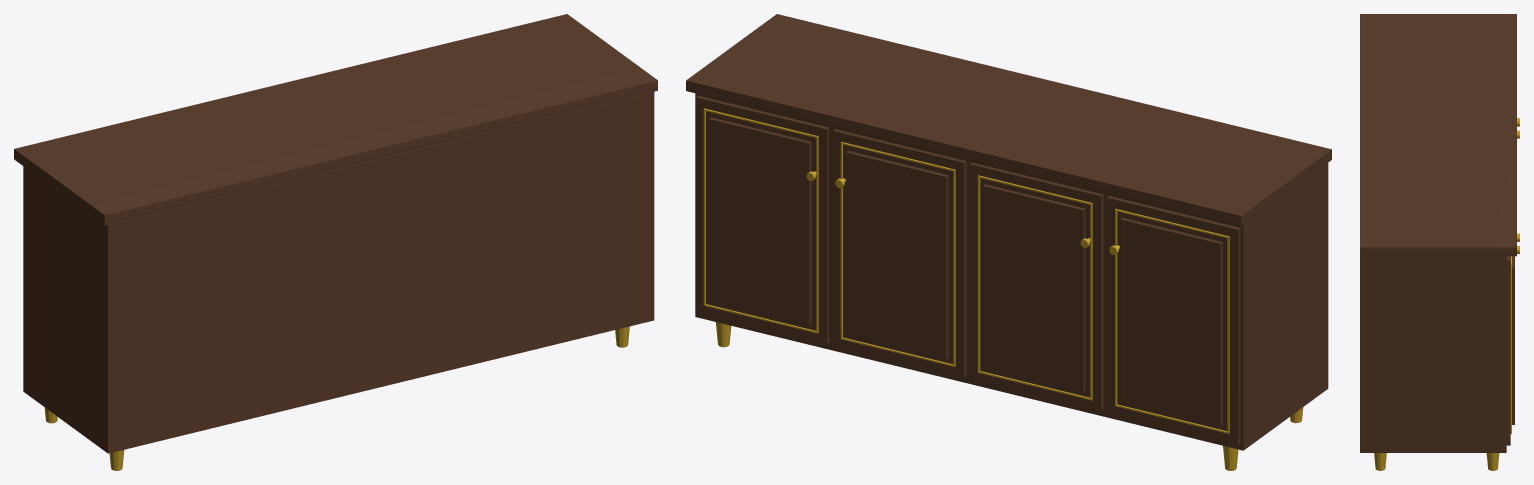
The model's file is prop_credenza.glb.
3 views of the same model, side by side, from view 1: azimuth 30°, elevation 25°; view 2: azimuth 150°, elevation 25°; view 3: azimuth 270°, elevation 25° (orthographic). The views are drawn at different scales.
Visible parts, largest first — view 1: Credenza; view 2: Credenza; view 3: Credenza.
Part boxes in pixels (x1,y1,x2,y2): Credenza: (14, 14, 657, 470); Credenza: (686, 14, 1331, 470); Credenza: (1360, 14, 1519, 470).
Size of what is drawn, in the model's own units: 1.62 by 0.75 by 0.469.
